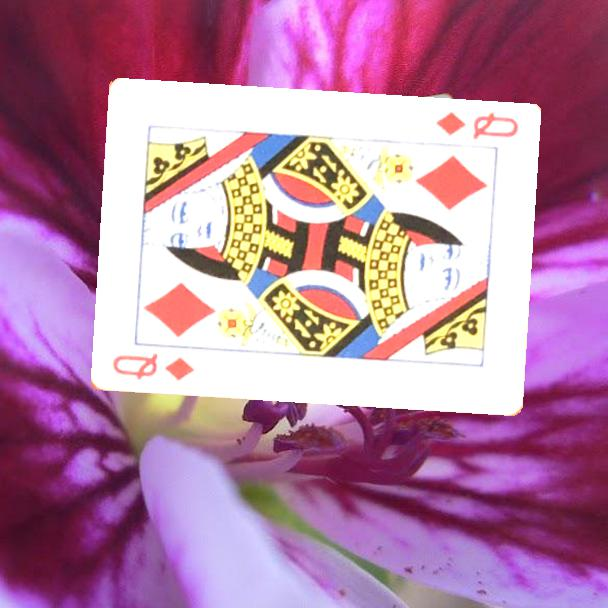d12: (431, 109, 521, 143), (109, 350, 197, 384)
